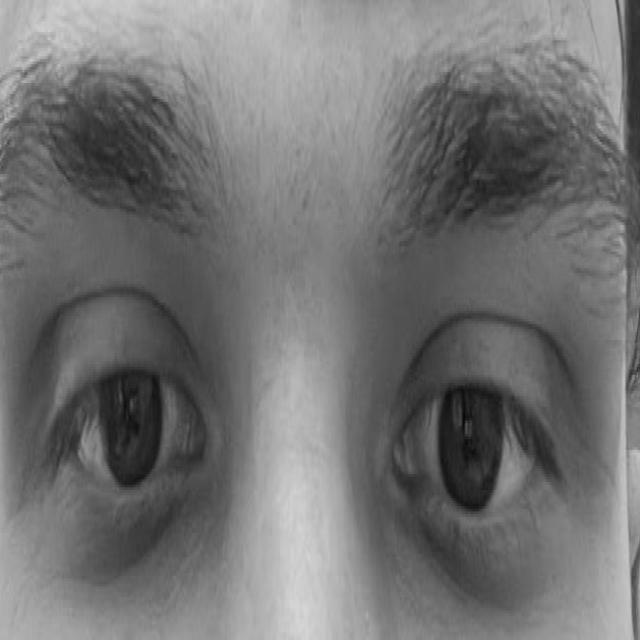real: (21, 154, 594, 598)
